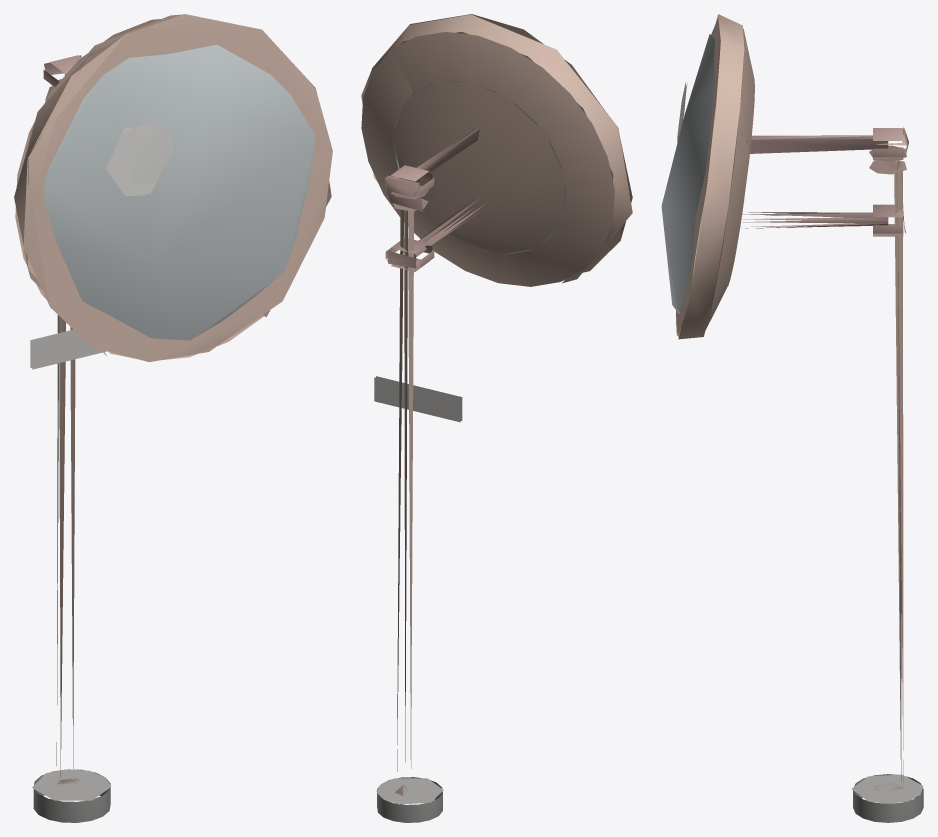
File: mirror.lod.glb
3 renders of one model, left to right at view 1: azimuth 30°, elevation 25°; view 2: azimuth 150°, elevation 25°; view 3: azimuth 270°, elevation 25°, orthographic. The views are drawn at different scales.
Parts seen in each view (by area): view 1: mirror.001; view 2: mirror.001; view 3: mirror.001.
Boxes of the visible parts, x1,y1,x2,y2 form: mirror.001: (14, 14, 332, 822); mirror.001: (361, 14, 632, 822); mirror.001: (661, 14, 923, 822).
Size of the model in its own units: 0.9209 by 2.43 by 0.7438.
